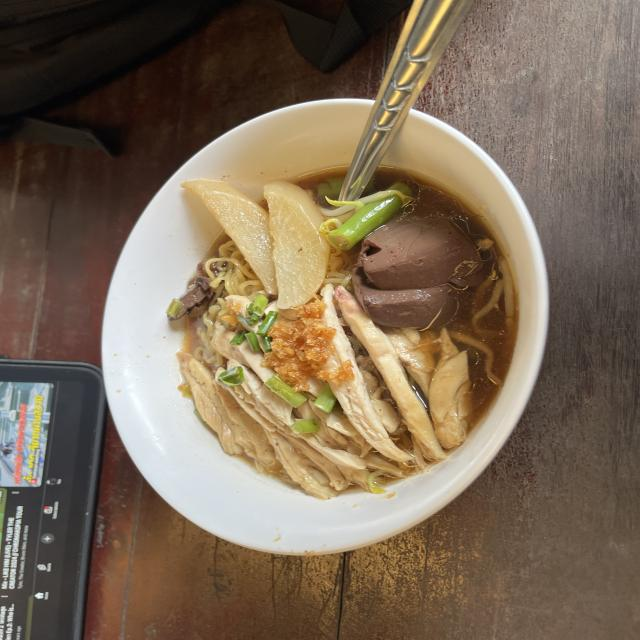noodle: (158, 170, 560, 505)
